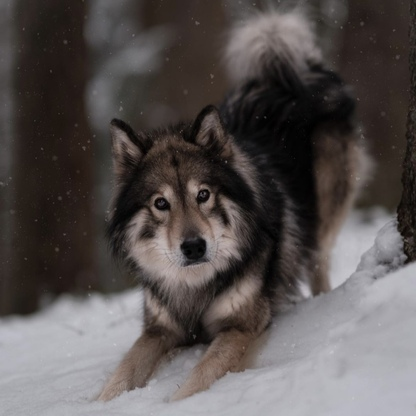husky: (94, 3, 376, 407)
